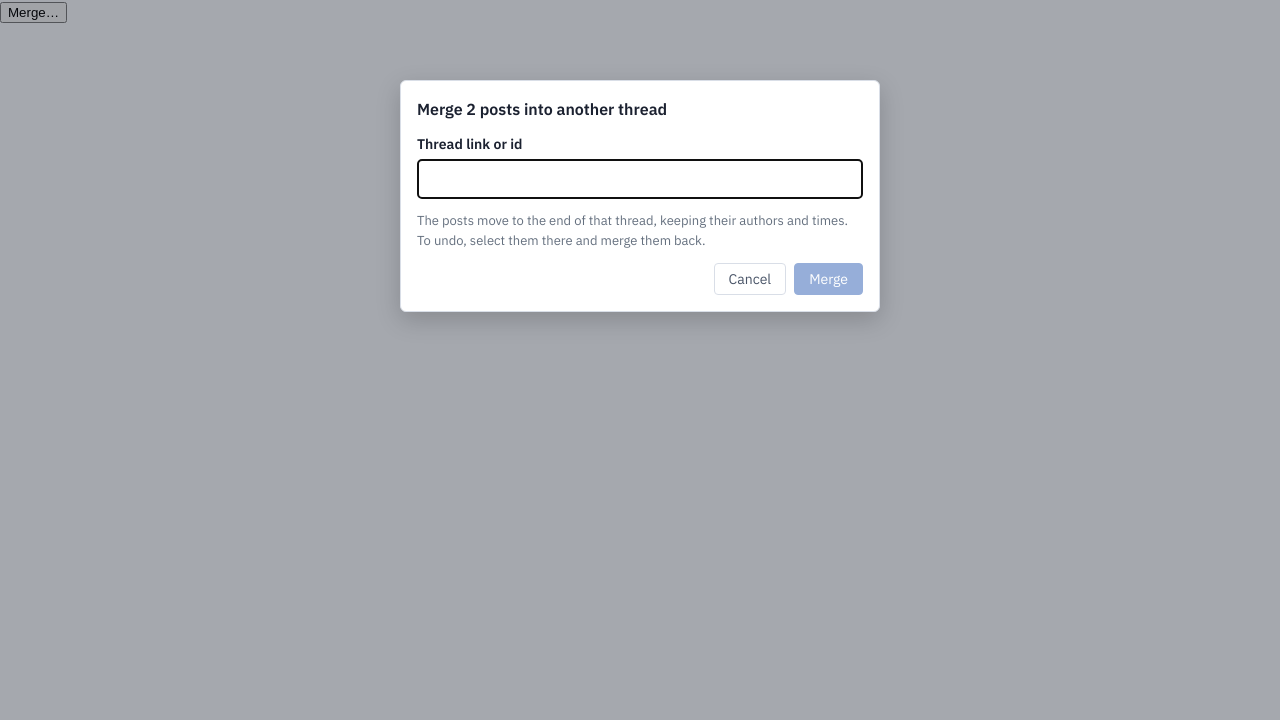
Test: the merge dialog › says why a conflict refusal was given, and keeps what was typed
Type "3yymw47g00042" into the field labelled "Thread link or id". click: (640, 179)
box: [417,160,863,199]
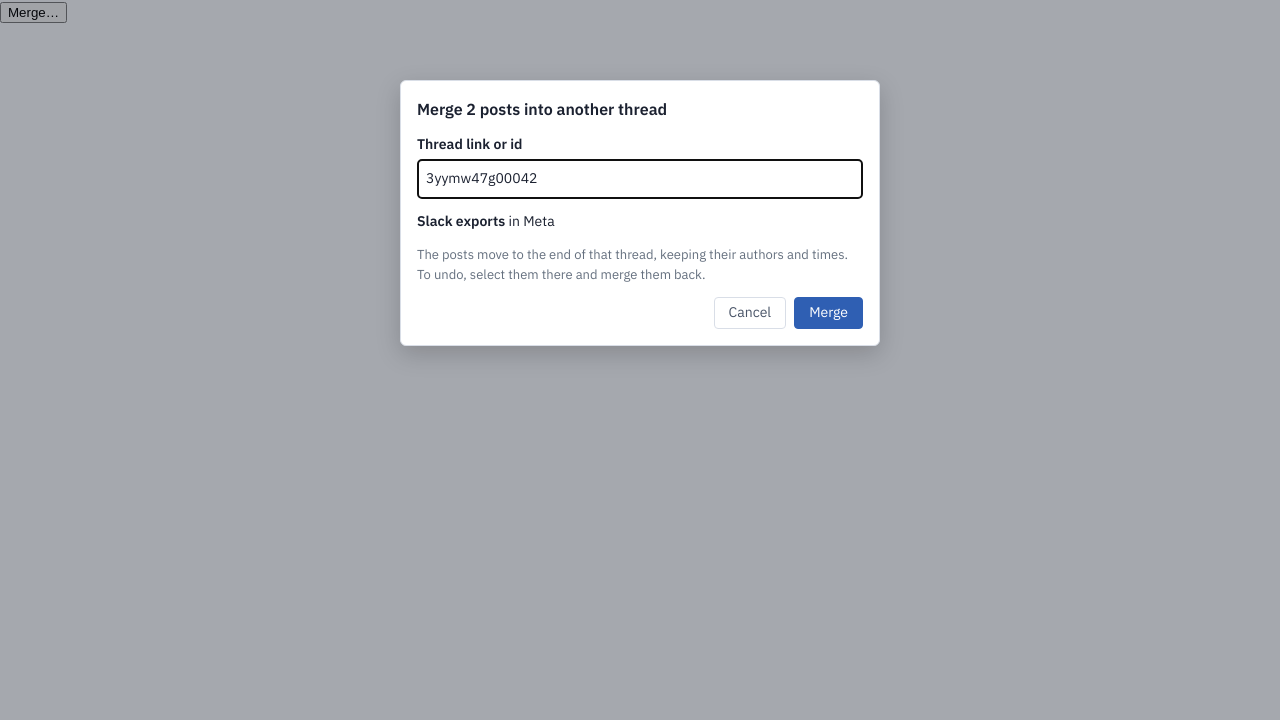
Click the button with class "flag-send". click: (829, 313)
box: [794,297,863,329]
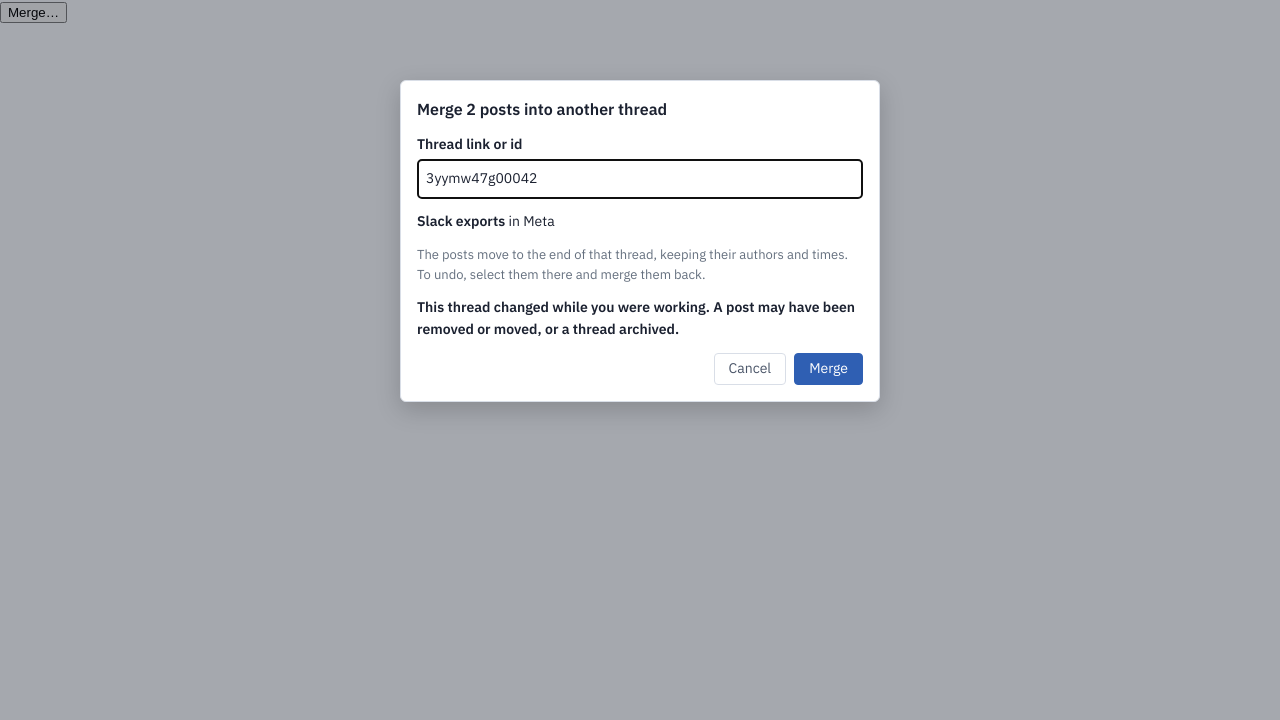
Now the message shows "A post may have been removed or moved, or a thread archived.", box [417,298,855,338]
